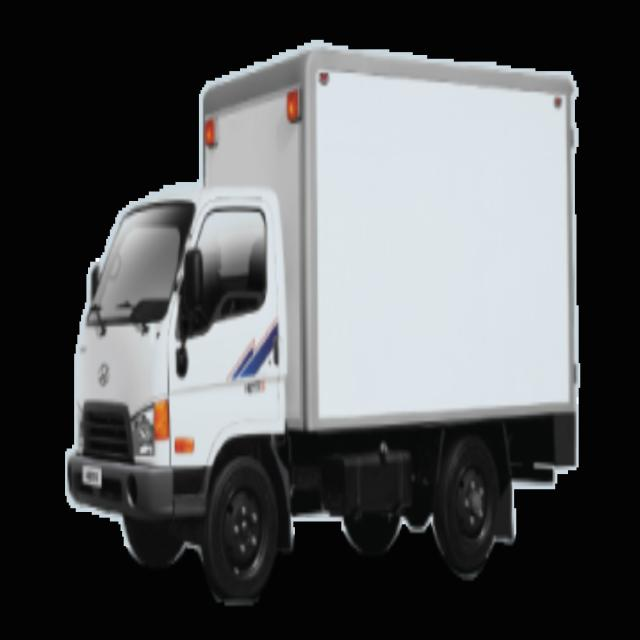TRUCK: (70, 45, 586, 623)
